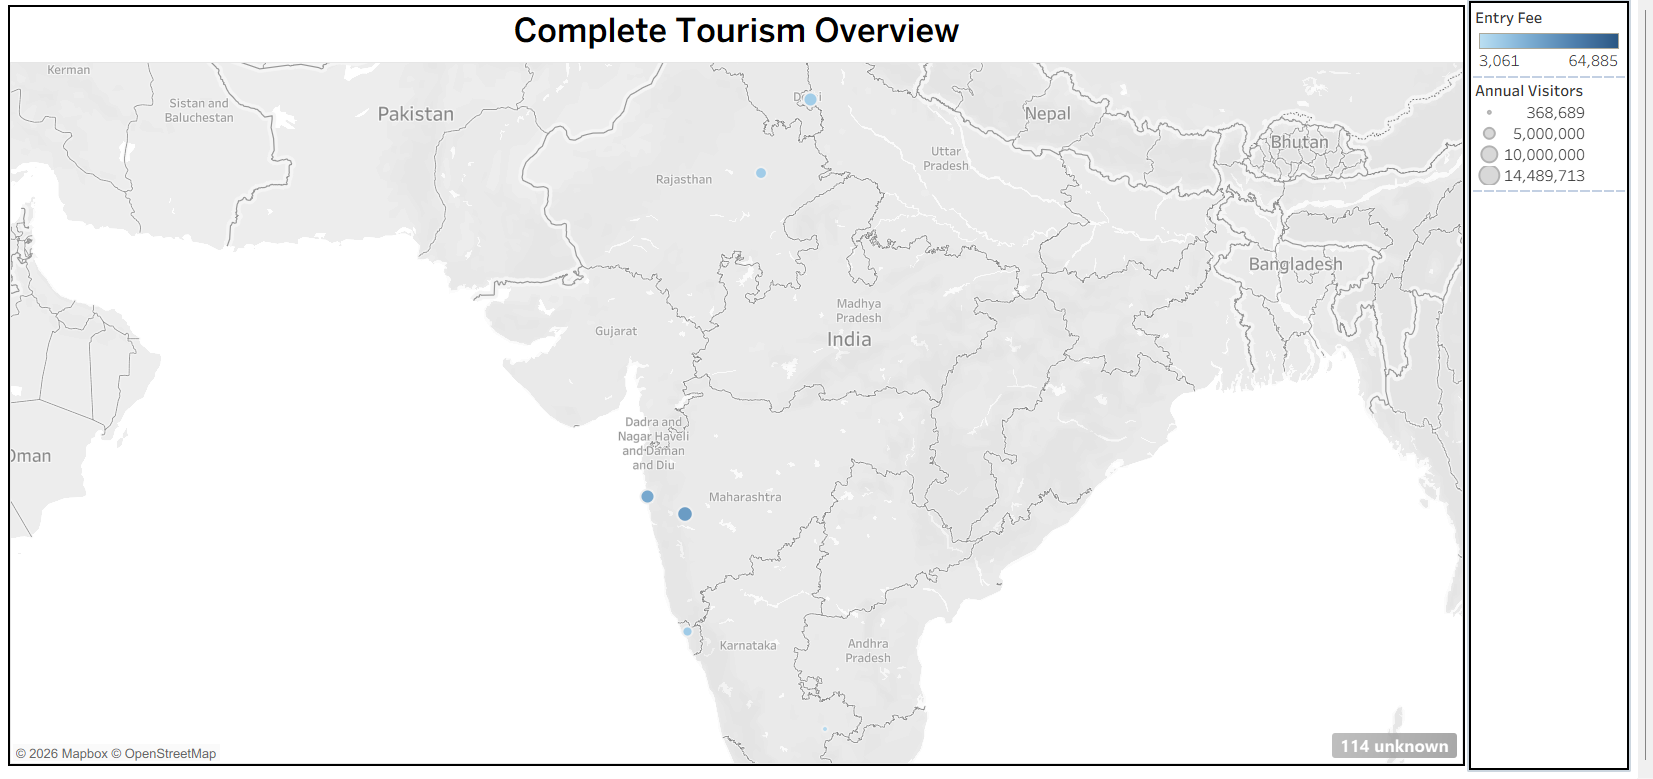

The dashboard page shown, as its layout file describes it:
{"tool":"tableau","page":{"name":"Dashboard 3","canvas":[1000,1000],"units":"permille","ordinal":2},"visuals":[{"type":"worksheet","title":"Sheet 7","mark":"Automatic","box":[4.9,10.2,892.7,979.6]},{"type":"legend","title":"Sheet 7","param":"[federated.1f3yszq0ng22h01115kip0394kwc].[sum:Entry Fee:qk]","box":[898.8,12.7,95.1,93]},{"type":"legend","title":"Sheet 7","param":"[federated.1f3yszq0ng22h01115kip0394kwc].[sum:Annual Visitors:qk]","box":[898.8,105.7,95.1,145.2]}]}

Visuals, with their boxes on the dashboard's canvas, which has no fixed pixel size, in thousandths of its width and height (x1, y1, x2, y2). These are canvas units, not pixel positions in the 1653x779 screenshot, which may show the page scaled, cropped or inside an application window:
"Sheet 7" worksheet: box=[5, 10, 898, 990]
"Sheet 7" legend: box=[899, 13, 994, 106]
"Sheet 7" legend: box=[899, 106, 994, 251]
